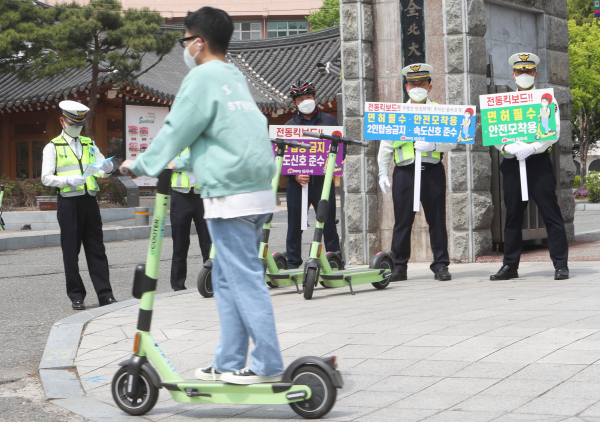scooter: (115, 161, 344, 416), (304, 130, 393, 301)
